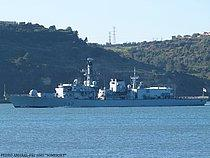MIL_Ship: (6, 57, 209, 108)
